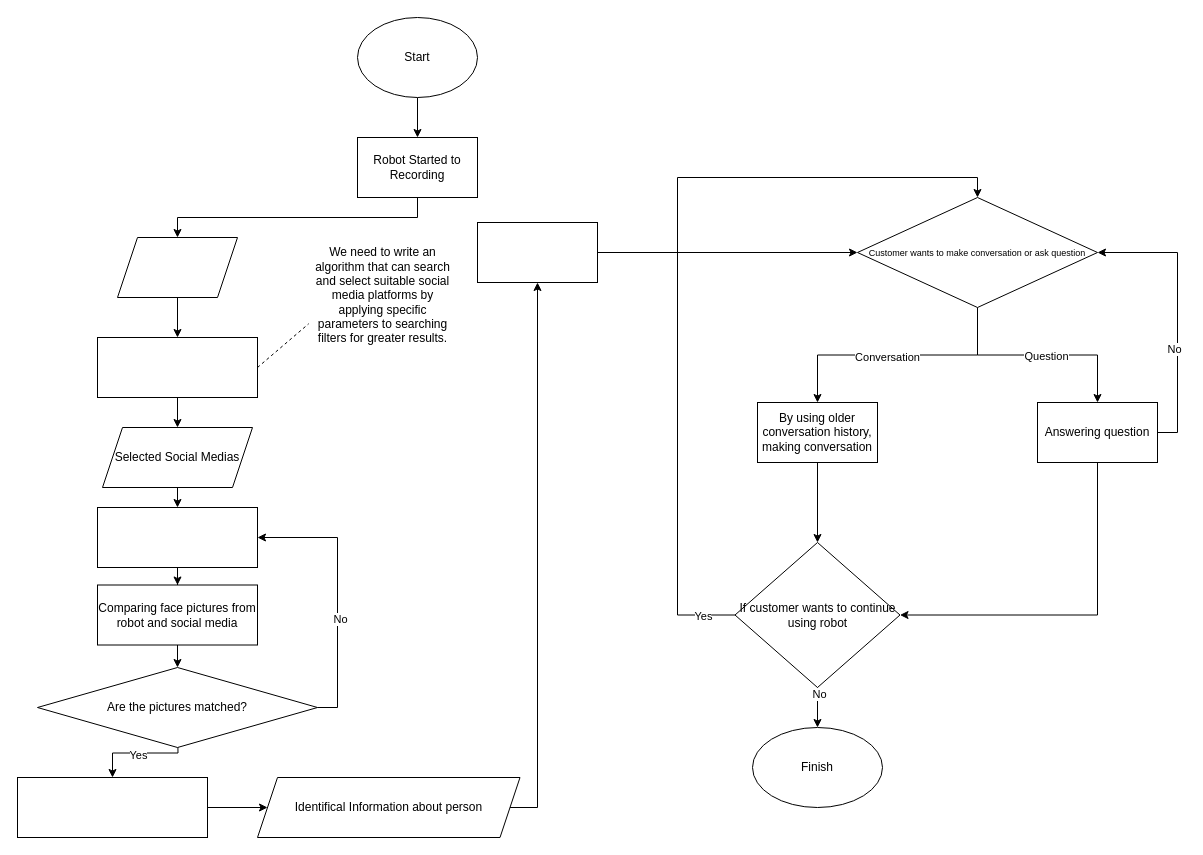
Some shapes in this 1203 by 855 pixel diagram are drawn without their labels. Each missing label, with the centre of its shape:
"Checking the Faces from selected social medias" belongs at point 177,537.
"Face Pictures and Images" belongs at point 177,267.
"Fetch past conversation data with using information" belongs at point 537,252.
"Gathering Information from matched picture's owner (name, surname and location)" belongs at point 112,807.
"Social Media Searching Algorithm working" belongs at point 177,367.
